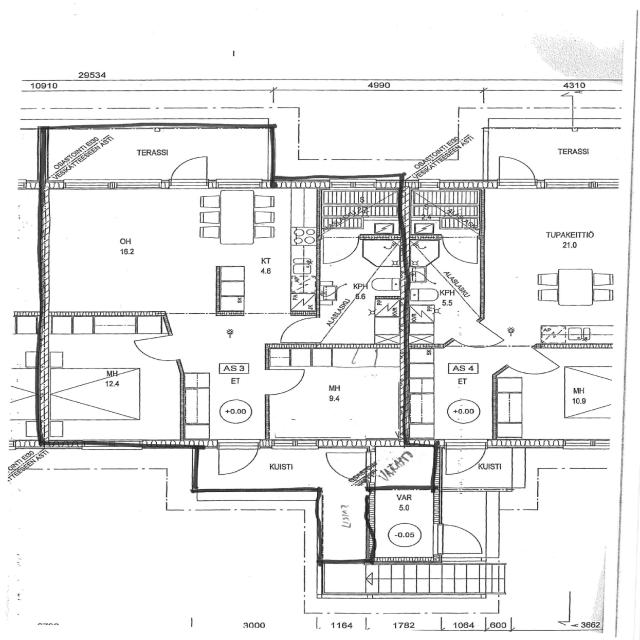door: (434, 522, 489, 558), (167, 152, 214, 191), (214, 441, 260, 478), (493, 152, 538, 188), (441, 442, 487, 477), (317, 232, 363, 264), (131, 332, 175, 362), (275, 316, 321, 344), (440, 235, 481, 265), (265, 368, 307, 396)
window: (74, 177, 164, 193), (80, 438, 159, 454), (273, 438, 322, 453), (216, 178, 266, 192), (544, 179, 598, 191)
zone: (38, 186, 222, 316), (42, 315, 179, 440), (481, 186, 629, 282), (492, 338, 622, 445), (264, 356, 407, 447), (215, 191, 316, 315), (316, 237, 404, 346), (406, 348, 494, 442), (407, 234, 480, 347), (520, 272, 619, 343), (183, 356, 265, 438), (367, 486, 440, 563), (319, 179, 402, 234), (401, 185, 483, 229), (365, 442, 438, 488), (1, 313, 41, 372), (213, 441, 262, 481)
